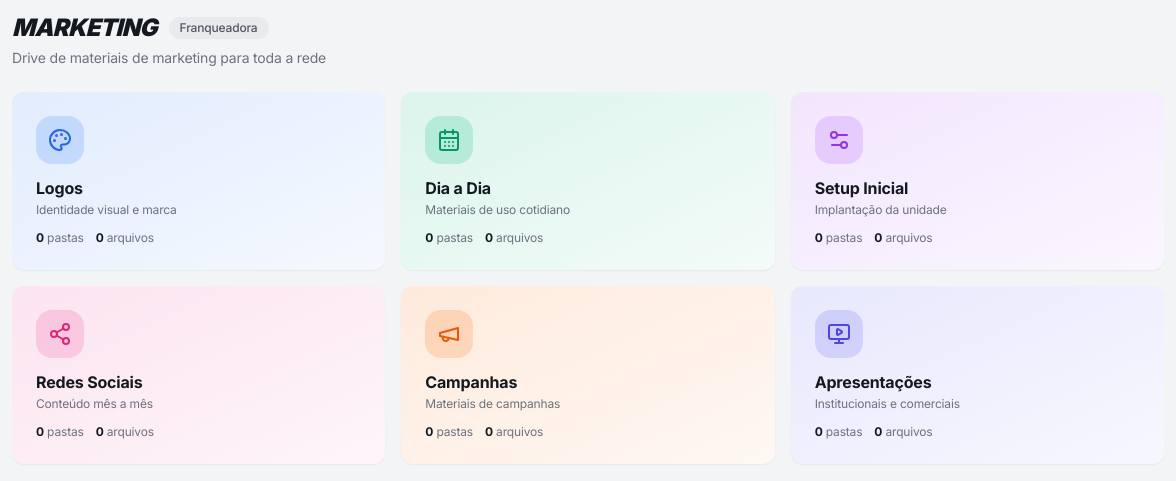
Test: Marketing › renders upload button in category view
Click the heading "Dia a Dia" at (458, 188), box [425, 178, 491, 198]
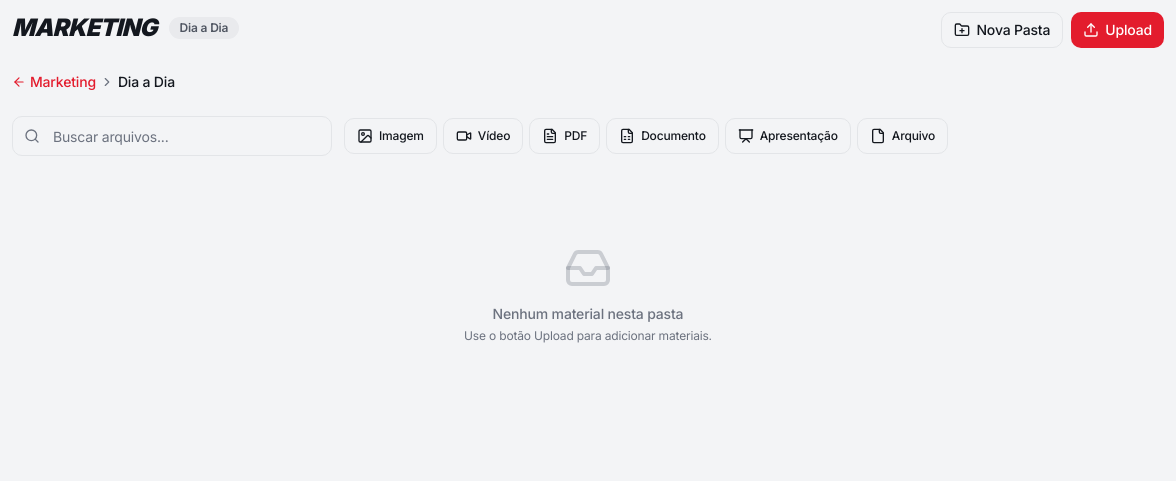
Now the button "Upload" is shown, box [1071, 12, 1164, 48]
